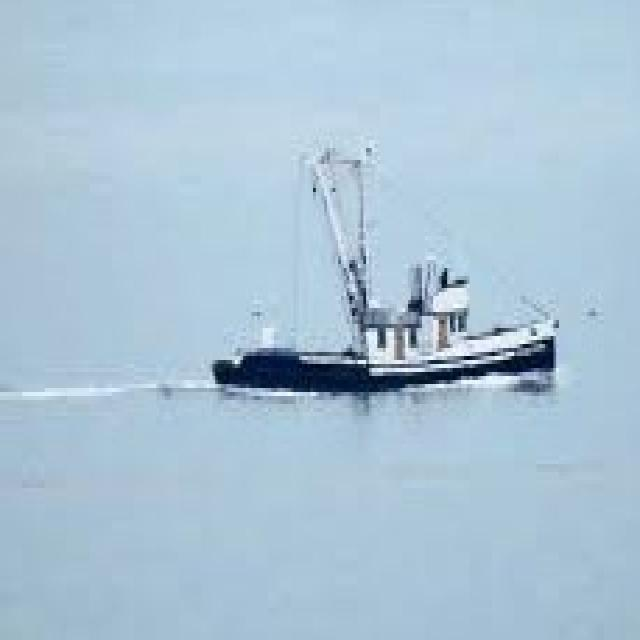fishing boat: (202, 134, 576, 388)
